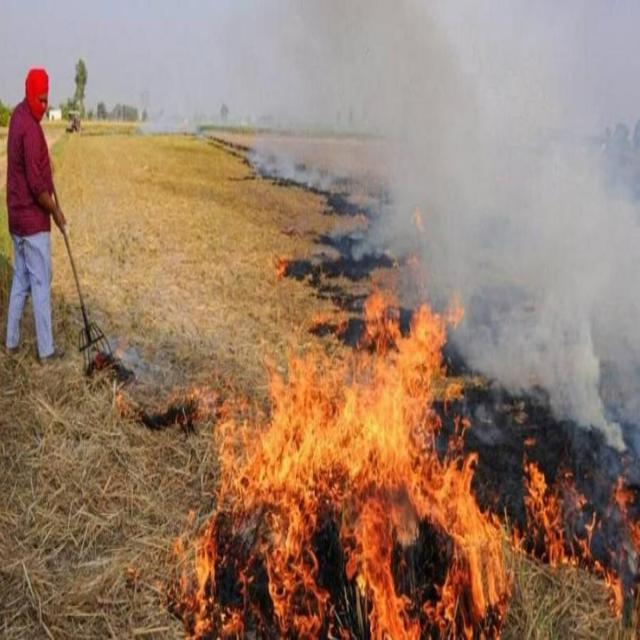Fire: (273, 376, 458, 530)
Smoke: (412, 18, 628, 272)
